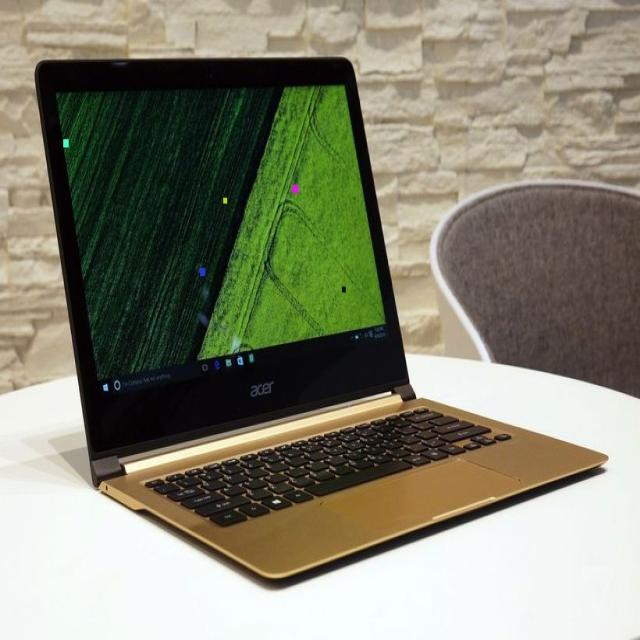dead_pixel: (63, 139, 68, 146), (200, 268, 204, 275), (293, 185, 297, 192), (342, 287, 345, 291), (223, 198, 226, 202)
